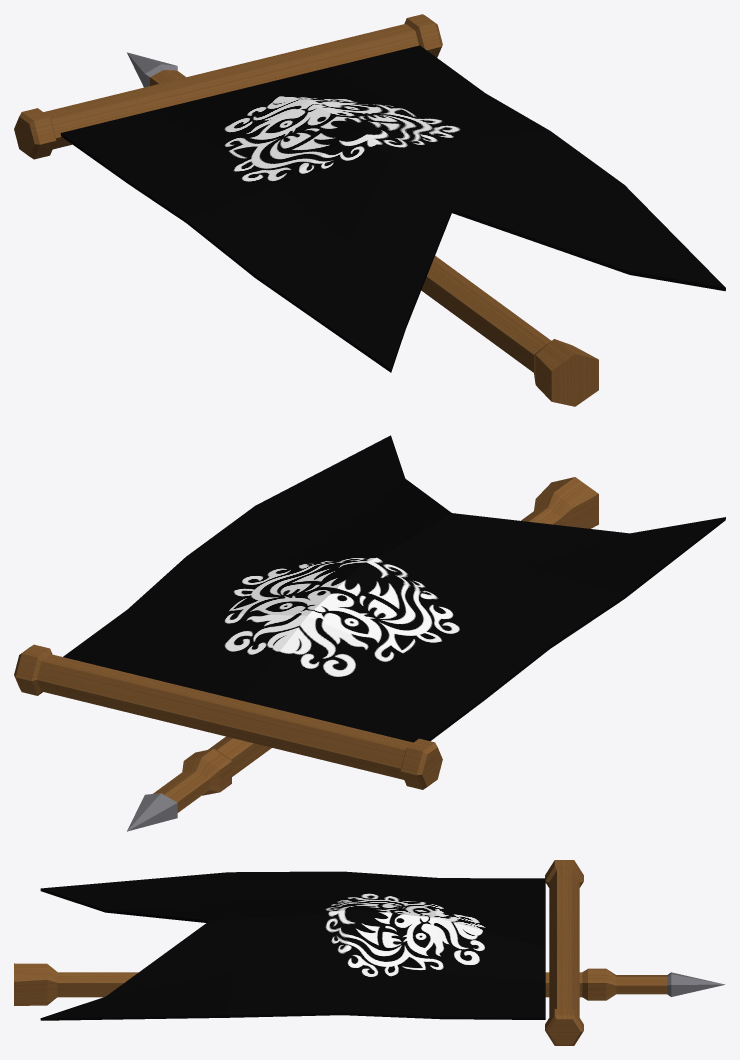
Rendered from sail_b_1.fbx.
3 views of the same model, one above another, from view 1: azimuth 30°, elevation 25°; view 2: azimuth 150°, elevation 25°; view 3: azimuth 270°, elevation 25° (orthographic). The views are drawn at different scales.
Visible parts, largest first — view 1: Cube.080; view 2: Cube.080; view 3: Cube.080.
Boxes of the visible parts, bbox=[...] form: Cube.080: bbox=[14, 14, 725, 406]; Cube.080: bbox=[14, 435, 725, 831]; Cube.080: bbox=[14, 860, 724, 1045].
Size of the model in its own units: 86.08 by 24.4 by 164.
